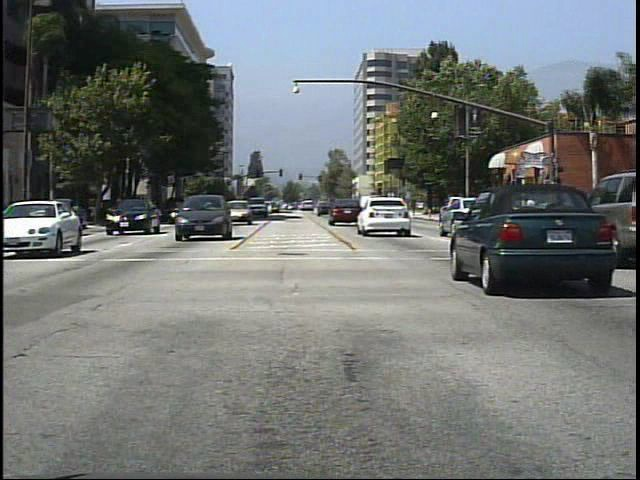person: (522, 195, 541, 229), (489, 189, 507, 224)
